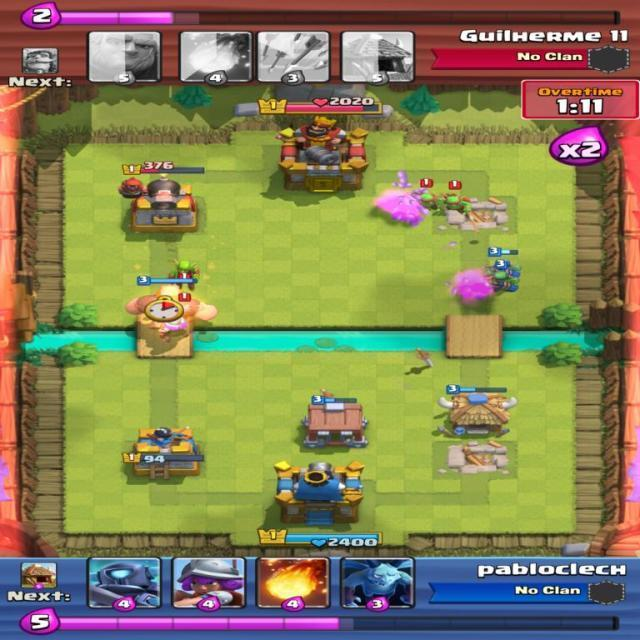ECannoneerTower: (131, 179, 199, 232)
EGoblin: (169, 259, 199, 288)
EKingTower: (274, 126, 366, 188)
ESpearGoblin: (440, 180, 476, 219), (409, 177, 439, 216)
OGiant: (128, 278, 217, 322)
OGoblinCage: (302, 394, 369, 450)
OGoblinHut: (441, 383, 517, 435)
OSpearGoblin: (486, 248, 522, 273), (486, 271, 520, 294)
OwnKingTower: (271, 458, 374, 531)
OwnPrincessTower: (129, 425, 202, 480)
TowerDown: (430, 196, 522, 231), (432, 443, 520, 478)
